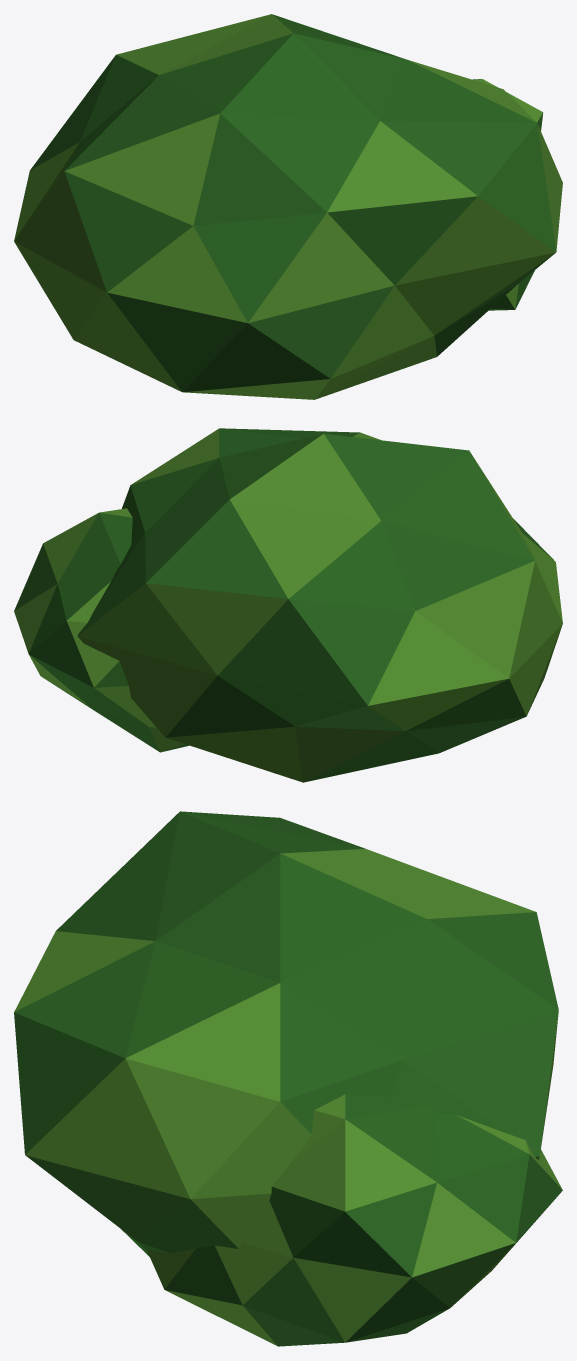
File: bush.fbx
3 views of the same model, one above another, from view 1: azimuth 30°, elevation 25°; view 2: azimuth 150°, elevation 25°; view 3: azimuth 270°, elevation 25° (orthographic). The views are drawn at different scales.
Parts seen in each view (by area): view 1: Bush; view 2: Bush; view 3: Bush.
Part boxes in pixels (bbox=[...]): Bush: bbox=[14, 14, 562, 399]; Bush: bbox=[14, 428, 562, 782]; Bush: bbox=[14, 811, 562, 1346].
Bounding box in the file's own units: 1.65 × 1.03 × 1.27.
